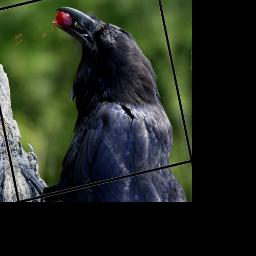Crow: (0, 0, 180, 200)
